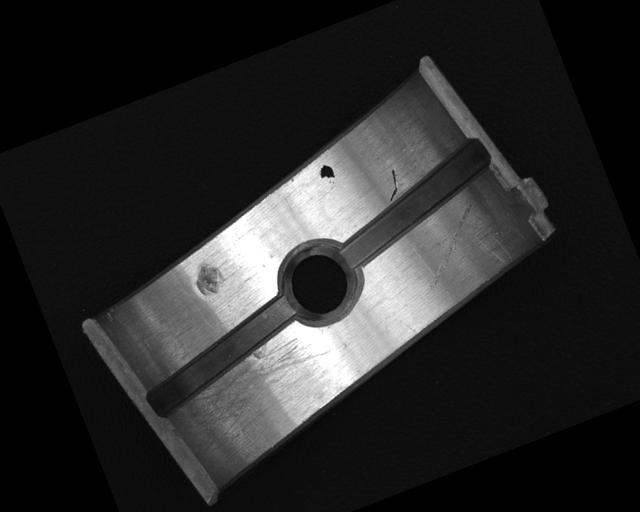blot: (316, 161, 338, 188)
bruise: (189, 257, 230, 301)
gap: (320, 134, 508, 270), (129, 290, 317, 419)
hole: (270, 233, 369, 335)
nick: (405, 199, 499, 293), (379, 167, 405, 203)
scratch: (154, 320, 352, 464)
